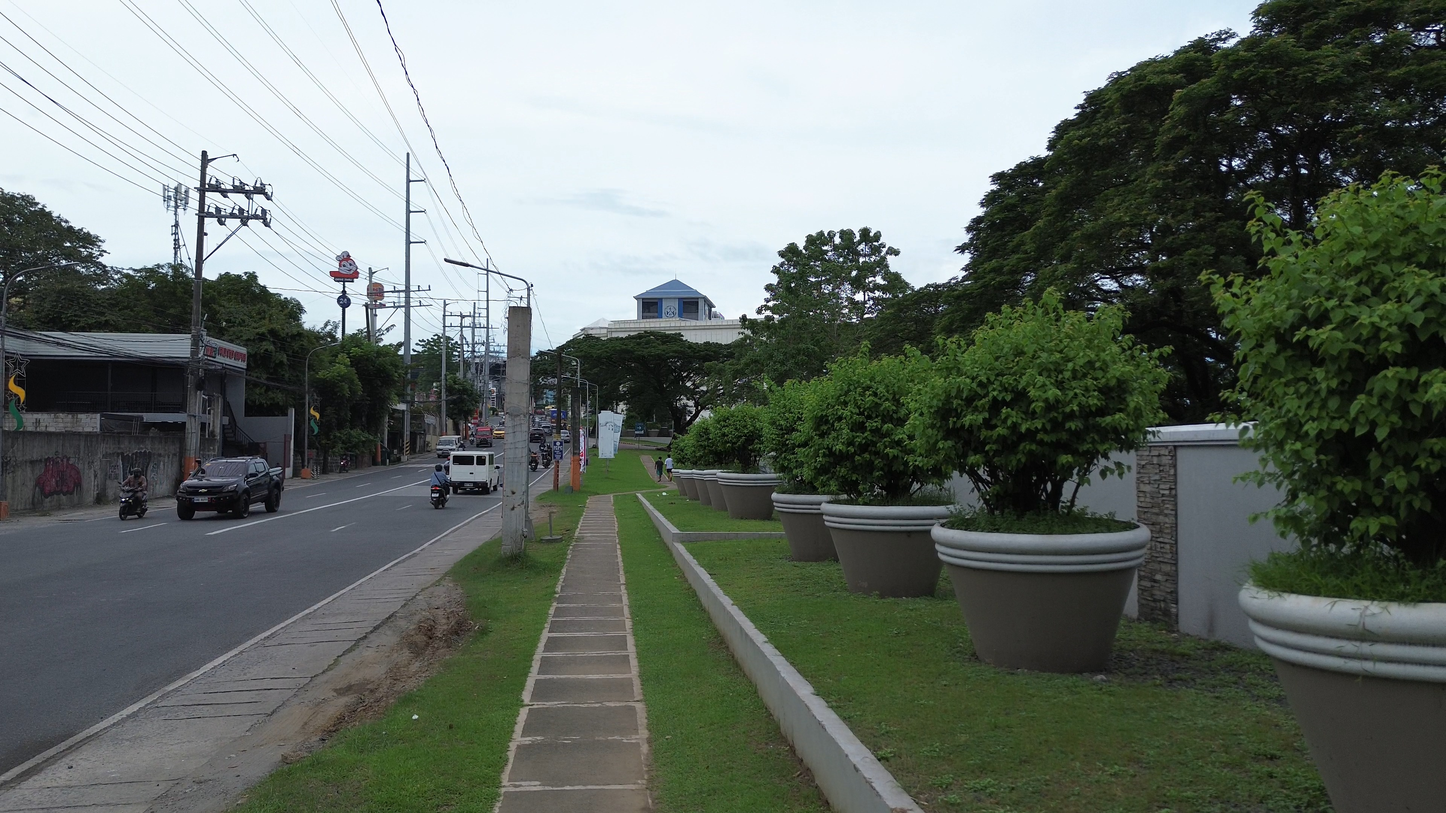motorcycle: (119, 488, 148, 520), (430, 484, 447, 509), (339, 454, 350, 473), (529, 452, 539, 471)
vehicle: (176, 458, 284, 519), (448, 451, 501, 494), (436, 435, 461, 458), (529, 451, 539, 471), (493, 426, 505, 440), (560, 429, 570, 441)
